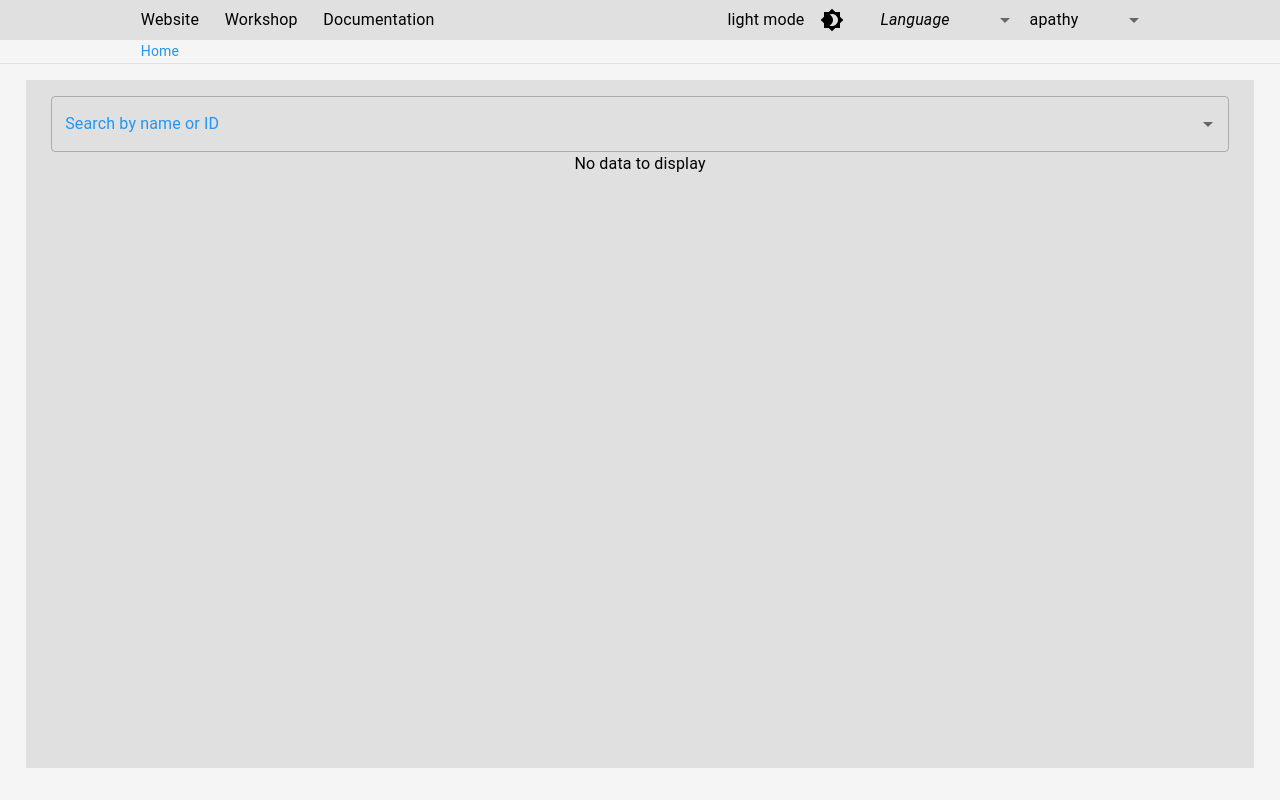
Test: Dark Mode Toggle › Theme Toggle › toggle from light to dark › should be visible and functional
This screenshot has width=1280, height=800.
Expected: the element with id "themeToggleContainer" reads "light mode", [728,0,853,40]
Expected: the icon with test id "Brightness4Icon" is shown, [821,8,845,32]
Click the button with id "modeToggleButton" at [833, 20], box [813,0,853,40]
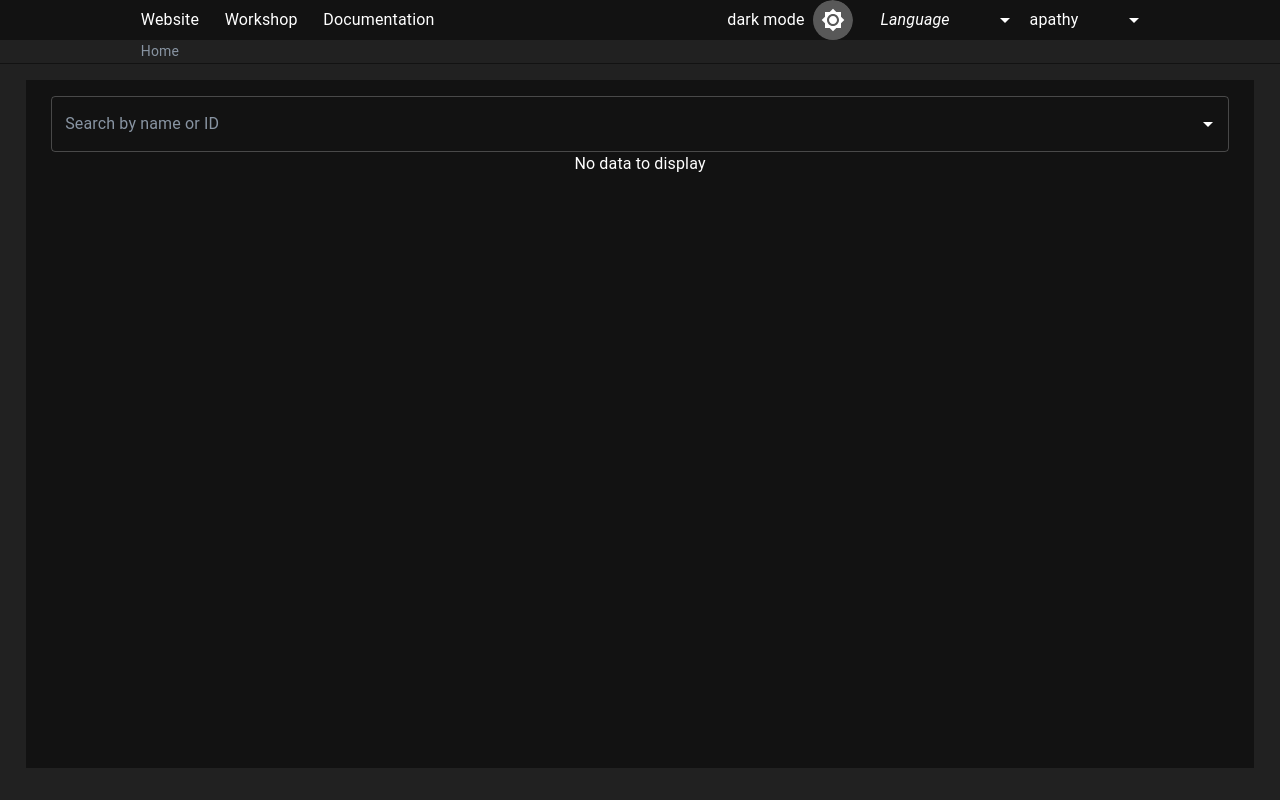
Expected: the icon with test id "Brightness7Icon" is shown, [821,8,845,32]
Now the element with id "themeToggleContainer" reads "dark mode", box [727,0,852,40]
